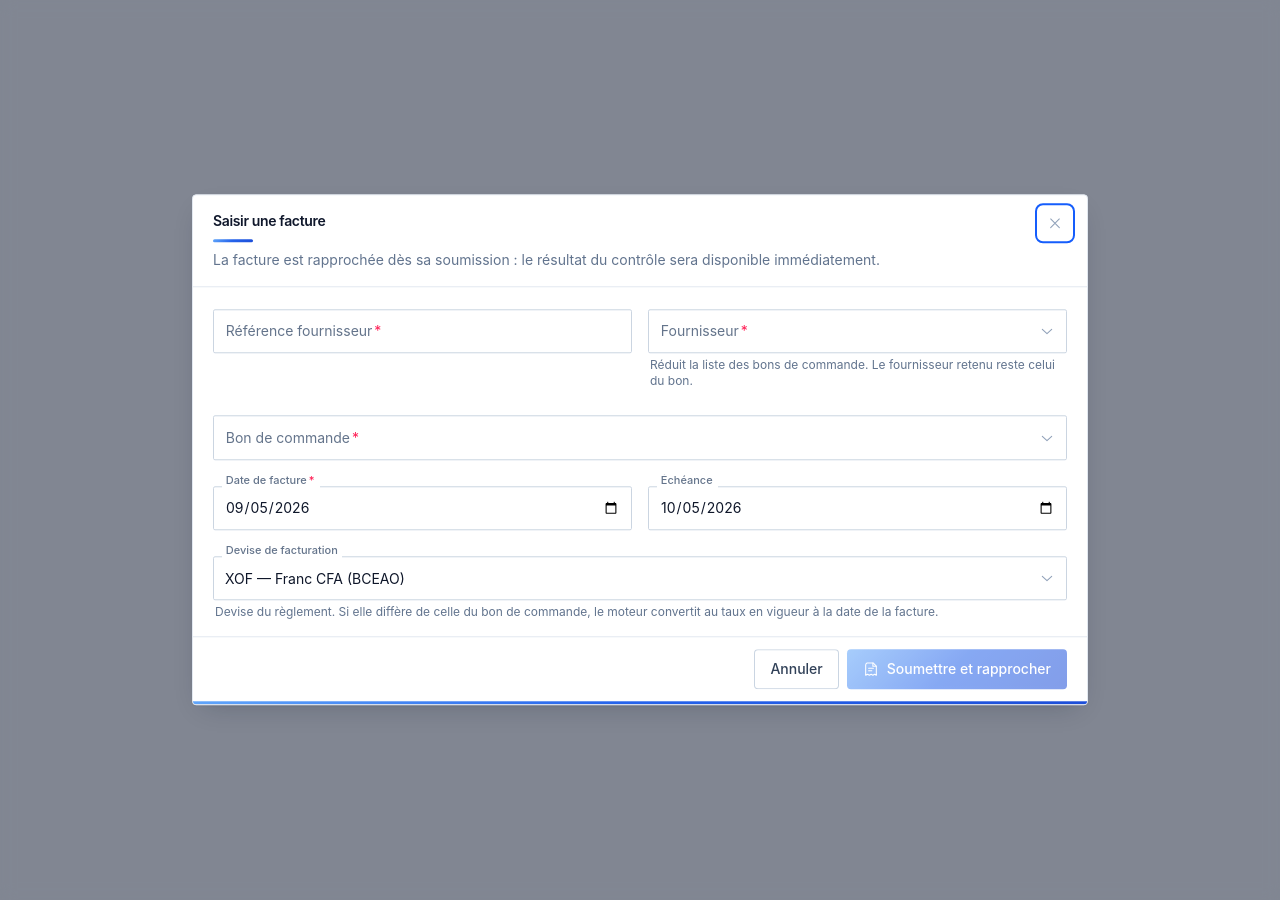
Test case: InvoiceFormDialog › ne propose que les bons de commande qui acceptent encore des documents
Click the dropdown labelled "Bon de commande*": [640, 438] box top-left (213, 416), bottom-right (1067, 460)
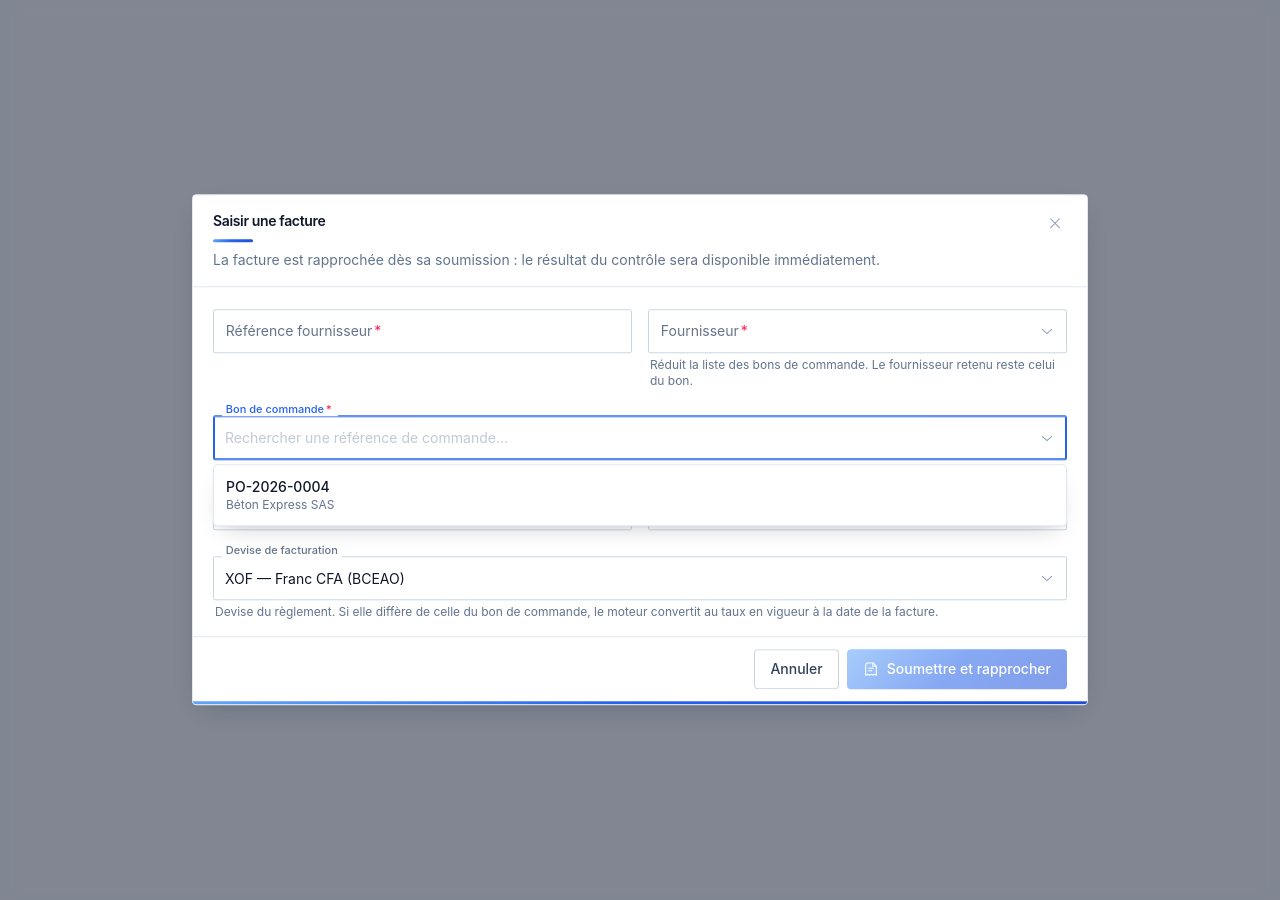
Result: the option "PO-2026-0004 Béton Express SAS" is shown at top-left (214, 469), bottom-right (1066, 521)
